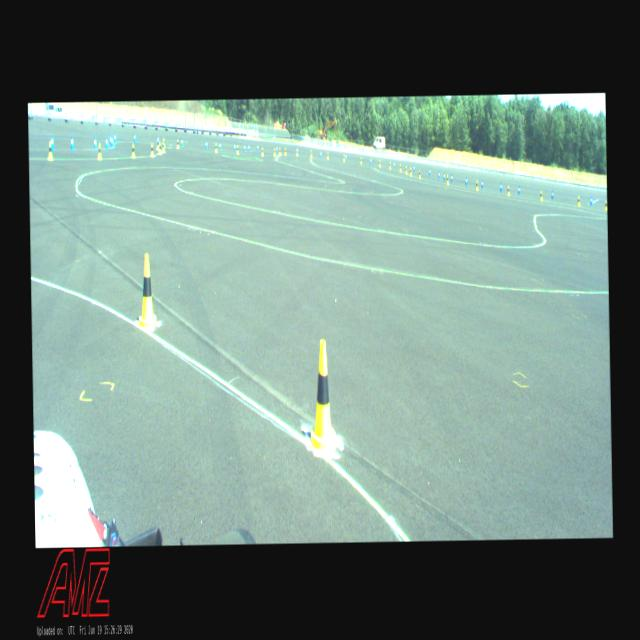blue_cone: (70, 134, 74, 150), (50, 134, 54, 150), (93, 136, 97, 150), (110, 135, 114, 148), (464, 176, 468, 186), (105, 136, 108, 149), (551, 190, 554, 200), (499, 182, 502, 192), (205, 140, 208, 149), (110, 133, 112, 145), (114, 132, 116, 144), (319, 150, 322, 158), (590, 195, 592, 206), (518, 183, 520, 194), (369, 157, 372, 164), (428, 168, 431, 175), (438, 170, 440, 180), (481, 178, 483, 188), (248, 142, 250, 152), (450, 172, 452, 182), (219, 140, 221, 150), (256, 142, 258, 152), (134, 132, 136, 142), (443, 171, 445, 181), (243, 143, 245, 152), (234, 142, 236, 151), (276, 144, 278, 153), (158, 135, 160, 144), (413, 164, 415, 172), (181, 138, 183, 146), (393, 160, 395, 168), (344, 152, 346, 160)
yellow_cone: (307, 338, 338, 450), (136, 252, 158, 330), (48, 140, 54, 160), (97, 142, 102, 160), (131, 142, 135, 158), (150, 143, 154, 157), (158, 142, 162, 155), (161, 141, 165, 153), (506, 184, 509, 196), (156, 138, 159, 150), (577, 195, 580, 206), (409, 166, 412, 177), (215, 142, 218, 153), (378, 158, 381, 168), (475, 180, 478, 190), (604, 200, 607, 210), (359, 156, 362, 164), (236, 144, 238, 155), (163, 137, 165, 148), (540, 190, 542, 200), (176, 138, 178, 148), (446, 174, 448, 184), (274, 147, 276, 157), (399, 162, 401, 172), (310, 148, 312, 158), (278, 146, 280, 156), (284, 146, 286, 156), (418, 169, 420, 179), (326, 150, 328, 160), (261, 146, 263, 156), (405, 165, 407, 174), (389, 161, 391, 170), (342, 153, 344, 162), (296, 148, 298, 156)
